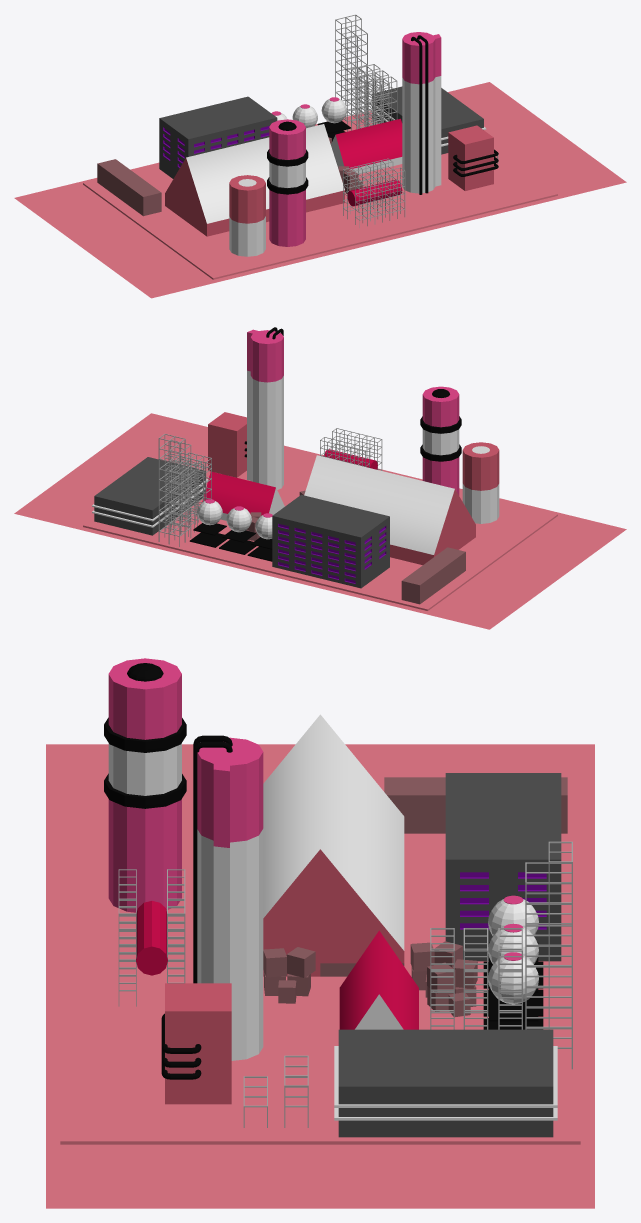
The model's file is factory_pink.fbx.
3 views of the same model, one above another, from view 1: azimuth 30°, elevation 25°; view 2: azimuth 150°, elevation 25°; view 3: azimuth 270°, elevation 25° (orthographic). The views are drawn at different scales.
Parts seen in each view (by area): view 1: ten_ght, pPlane1, pCube14, pCylinder15, pCube272, pCylinder17, pCube19, pCylinder18, pCube47, pCube41, pCube15, pCylinder20 (+4 smaller); view 2: ten_ght, pPlane1, pCube14, pCube272, pCylinder15, pCube15, pCylinder17, pCylinder18, pCube19, pCube47, pCube41, pSphere8 (+2 smaller); view 3: pPlane1, ten_ght, pCube14, pCube15, pCylinder15, pCube272, pCylinder17, pCube47, pCube19, pCube41, pCylinder20, pSphere12 (+5 smaller).
Part boxes in pixels (<box>): ten_ght: <box>14,82,626,298</box>; pPlane1: <box>83,113,557,279</box>; pCube14: <box>165,124,344,236</box>; pCylinder15: <box>402,32,441,193</box>; pCube272: <box>159,96,277,178</box>; pCylinder17: <box>267,119,308,246</box>; pCube19: <box>331,118,402,174</box>; pCylinder18: <box>229,175,265,256</box>; pCube47: <box>448,125,493,190</box>; pCube41: <box>97,159,161,216</box>; pCube15: <box>369,86,486,154</box>; pCylinder20: <box>347,179,402,206</box>; ten_ght: <box>14,413,626,629</box>; pPlane1: <box>83,434,557,610</box>; pCube14: <box>304,455,475,565</box>; pCube272: <box>272,494,389,588</box>; pCylinder15: <box>247,329,283,489</box>; pCube15: <box>92,457,208,535</box>; pCylinder17: <box>420,386,461,495</box>; pCylinder18: <box>462,442,499,523</box>; pCube19: <box>202,471,284,520</box>; pCube47: <box>208,412,246,477</box>; pCube41: <box>401,547,465,604</box>; pSphere8: <box>226,508,251,532</box>; pPlane1: <box>60,805,580,1144</box>; ten_ght: <box>46,744,594,1208</box>; pCube14: <box>263,714,404,976</box>; pCube15: <box>334,1029,557,1137</box>; pCylinder15: <box>197,737,263,1060</box>; pCube272: <box>445,773,561,961</box>; pCylinder17: <box>104,658,186,912</box>; pCube47: <box>165,983,231,1104</box>; pCube19: <box>339,930,418,1029</box>; pCube41: <box>384,777,567,833</box>; pCylinder20: <box>136,901,167,975</box>; pSphere12: <box>488,955,538,1004</box>.
Bounding box in the file's own units: 10 × 3.09 × 5.
